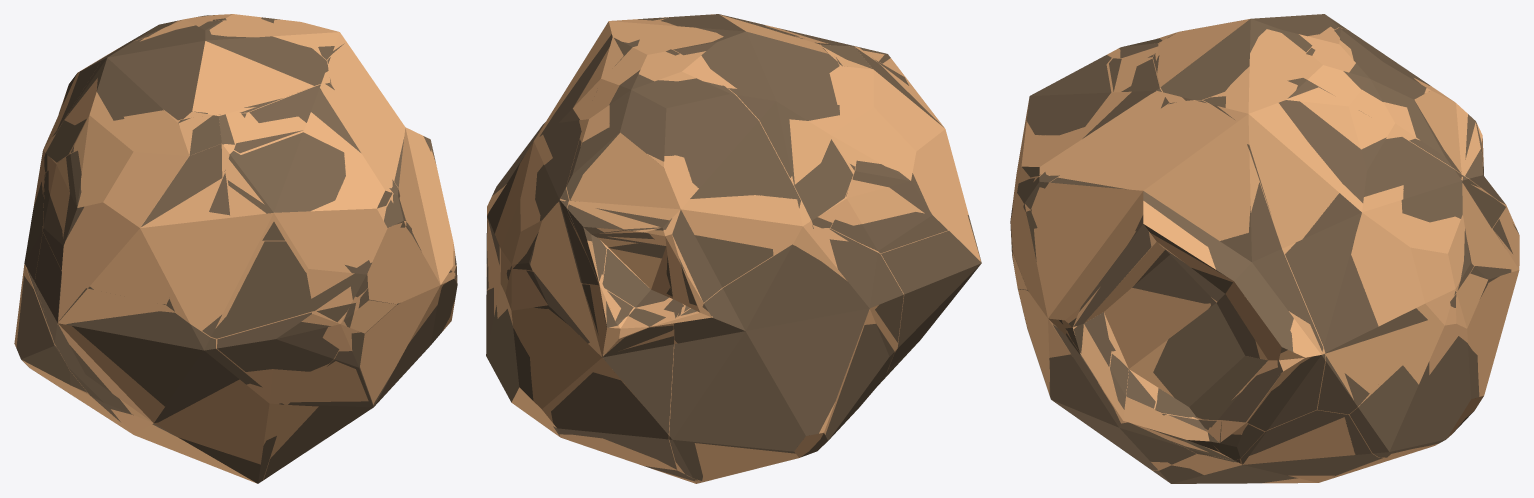
File: asteroid.glb
3 renders of one model, left to right at view 1: azimuth 30°, elevation 25°; view 2: azimuth 150°, elevation 25°; view 3: azimuth 270°, elevation 25°, orthographic. The views are drawn at different scales.
Visible parts, largest first — view 1: origin, Asteroid_Icosphere_cell.007, Asteroid_Icosphere_cell.003, Asteroid_Icosphere_cell.012, Asteroid_Icosphere_cell.008, Asteroid_Icosphere_cell, Asteroid_Icosphere_cell.005, Asteroid_Icosphere_cell.004, Asteroid_Icosphere_cell.010, Asteroid_Icosphere_cell.011; view 2: origin, Asteroid_Icosphere_cell.010, Asteroid_Icosphere_cell.011, Asteroid_Icosphere_cell.006, Asteroid_Icosphere_cell.003, Asteroid_Icosphere_cell.014, Asteroid_Icosphere_cell.007, Asteroid_Icosphere_cell.005; view 3: origin, Asteroid_Icosphere_cell.001, Asteroid_Icosphere_cell.014, Asteroid_Icosphere_cell.006, Asteroid_Icosphere_cell, Asteroid_Icosphere_cell.002, Asteroid_Icosphere_cell.003, Asteroid_Icosphere_cell.011, Asteroid_Icosphere_cell.008, Asteroid_Icosphere_cell.012, Asteroid_Icosphere_cell.009.
Boxes of the visible parts, box(x1,y1,x2,y2) form: origin: box(14, 14, 456, 483); Asteroid_Icosphere_cell.007: box(34, 232, 283, 483); Asteroid_Icosphere_cell.003: box(44, 20, 328, 172); Asteroid_Icosphere_cell.012: box(166, 83, 405, 338); Asteroid_Icosphere_cell.008: box(227, 132, 392, 240); Asteroid_Icosphere_cell: box(263, 222, 457, 479); Asteroid_Icosphere_cell.005: box(43, 113, 246, 304); Asteroid_Icosphere_cell.004: box(217, 303, 355, 371); Asteroid_Icosphere_cell.010: box(16, 175, 87, 392); Asteroid_Icosphere_cell.011: box(43, 15, 226, 159); origin: box(486, 14, 980, 483); Asteroid_Icosphere_cell.010: box(669, 228, 903, 480); Asteroid_Icosphere_cell.011: box(566, 49, 813, 311); Asteroid_Icosphere_cell.006: box(486, 269, 676, 469); Asteroid_Icosphere_cell.003: box(661, 14, 855, 228); Asteroid_Icosphere_cell.014: box(486, 17, 683, 318); Asteroid_Icosphere_cell.007: box(870, 215, 981, 394); Asteroid_Icosphere_cell.005: box(799, 37, 947, 253); origin: box(1010, 19, 1519, 483); Asteroid_Icosphere_cell.001: box(1031, 100, 1325, 431); Asteroid_Icosphere_cell.014: box(1203, 78, 1505, 414); Asteroid_Icosphere_cell.006: box(1349, 219, 1518, 457); Asteroid_Icosphere_cell: box(1011, 210, 1195, 470); Asteroid_Icosphere_cell.002: box(1152, 410, 1383, 483); Asteroid_Icosphere_cell.003: box(1153, 14, 1347, 100); Asteroid_Icosphere_cell.011: box(1306, 27, 1505, 204); Asteroid_Icosphere_cell.008: box(1022, 55, 1111, 177); Asteroid_Icosphere_cell.012: box(1010, 58, 1169, 238); Asteroid_Icosphere_cell.009: box(1147, 414, 1264, 460).
Bounding box in the file's own units: 1.65 × 1.51 × 1.62.
